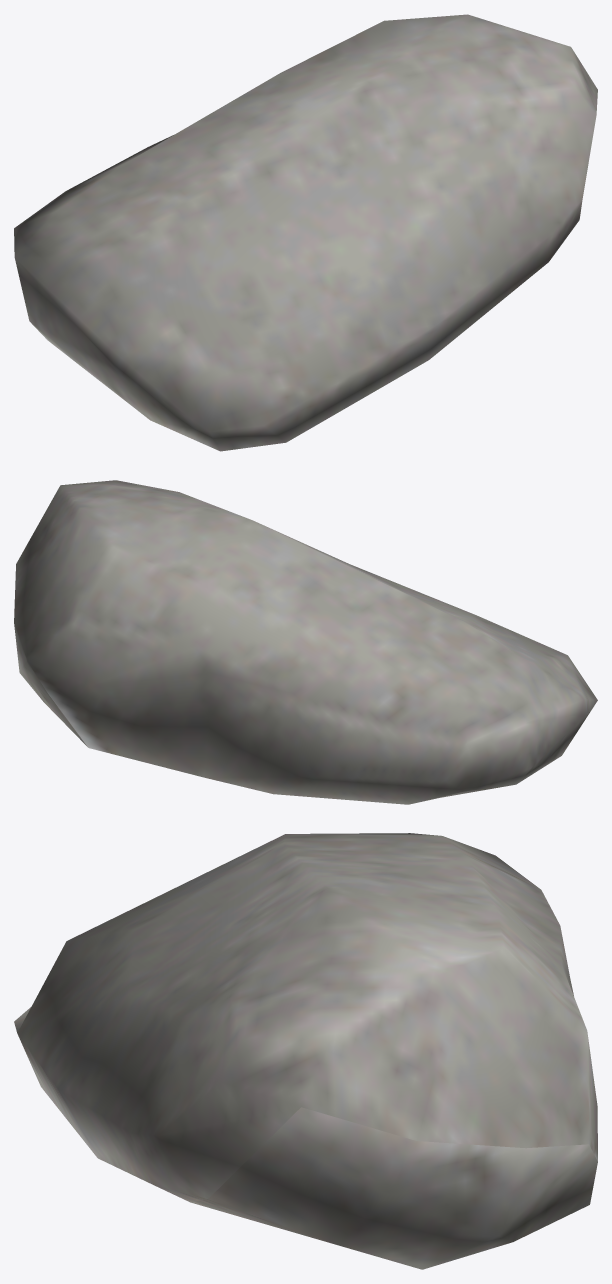
Rendered from Rock_05.glb.
The picture shows the model from 3 angles, top to bottom: view 1: azimuth 30°, elevation 25°; view 2: azimuth 150°, elevation 25°; view 3: azimuth 270°, elevation 25°; orthographic projection. The views are drawn at different scales.
Parts seen in each view (by area): view 1: rock_05; view 2: rock_05; view 3: rock_05.
Part boxes in pixels (x1,y1,x2,y2): rock_05: (14,14,597,451); rock_05: (14,480,597,804); rock_05: (14,833,597,1269).
Bounding box in the file's own units: 1.26 × 0.5405 × 0.854.
1 material, 1 textured.
